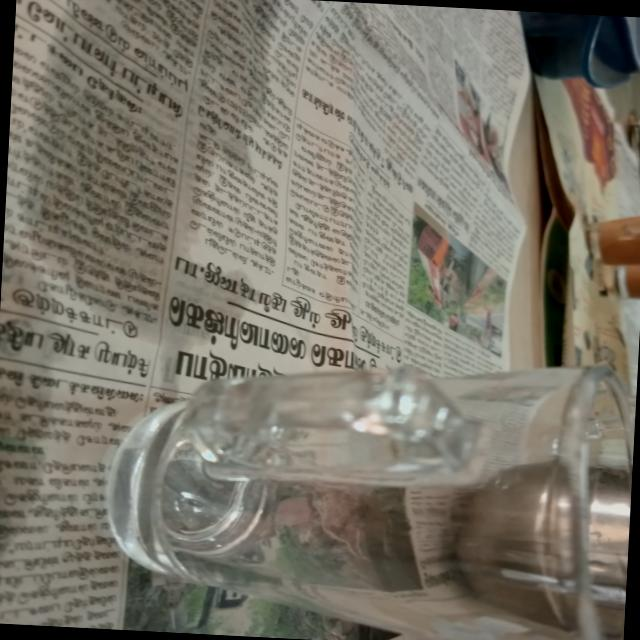glass-VX4N: (94, 335, 638, 640)
